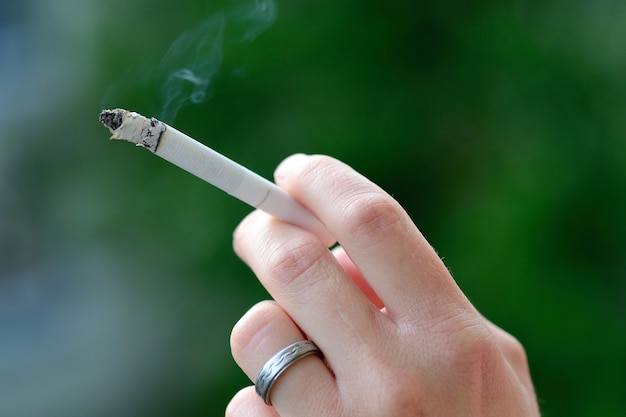cigarette: (98, 106, 343, 248)
